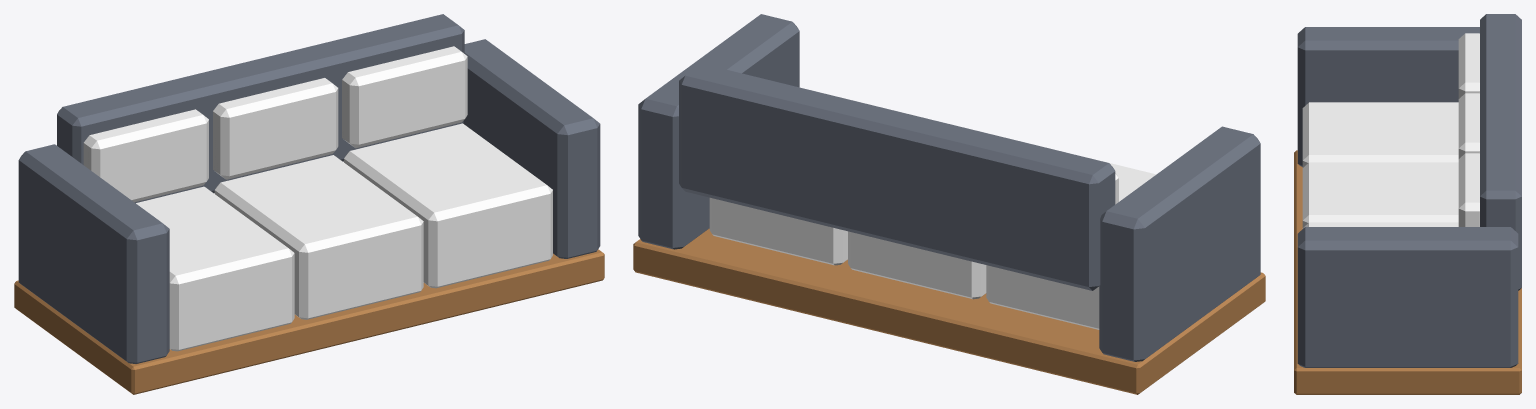
Rendered from sofa-3seat.glb.
The picture shows the model from 3 angles, left to right: view 1: azimuth 30°, elevation 25°; view 2: azimuth 150°, elevation 25°; view 3: azimuth 270°, elevation 25°; orthographic projection. The views are drawn at different scales.
Visible parts, largest first — view 1: sofa-3seat.tint, sofa-3seat.fabric, sofa-3seat.wood; view 2: sofa-3seat.fabric, sofa-3seat.wood, sofa-3seat.tint; view 3: sofa-3seat.fabric, sofa-3seat.tint, sofa-3seat.wood.
Boxes of the visible parts, bbox=[...] form: sofa-3seat.tint: bbox=[83, 46, 552, 351]; sofa-3seat.fabric: bbox=[18, 14, 600, 363]; sofa-3seat.wood: bbox=[14, 249, 604, 394]; sofa-3seat.fabric: bbox=[638, 14, 1260, 361]; sofa-3seat.wood: bbox=[633, 228, 1265, 394]; sofa-3seat.tint: bbox=[709, 89, 1156, 329]; sofa-3seat.fabric: bbox=[1297, 14, 1521, 367]; sofa-3seat.tint: bbox=[1302, 33, 1479, 228]; sofa-3seat.wood: bbox=[1294, 150, 1521, 394].
Size of the model in its own units: 2.1 by 0.82 by 0.92.
